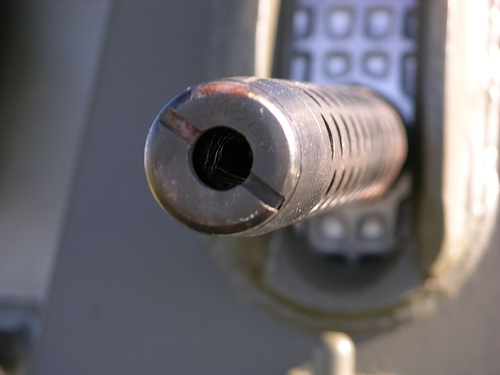rifle: (114, 45, 443, 272)
